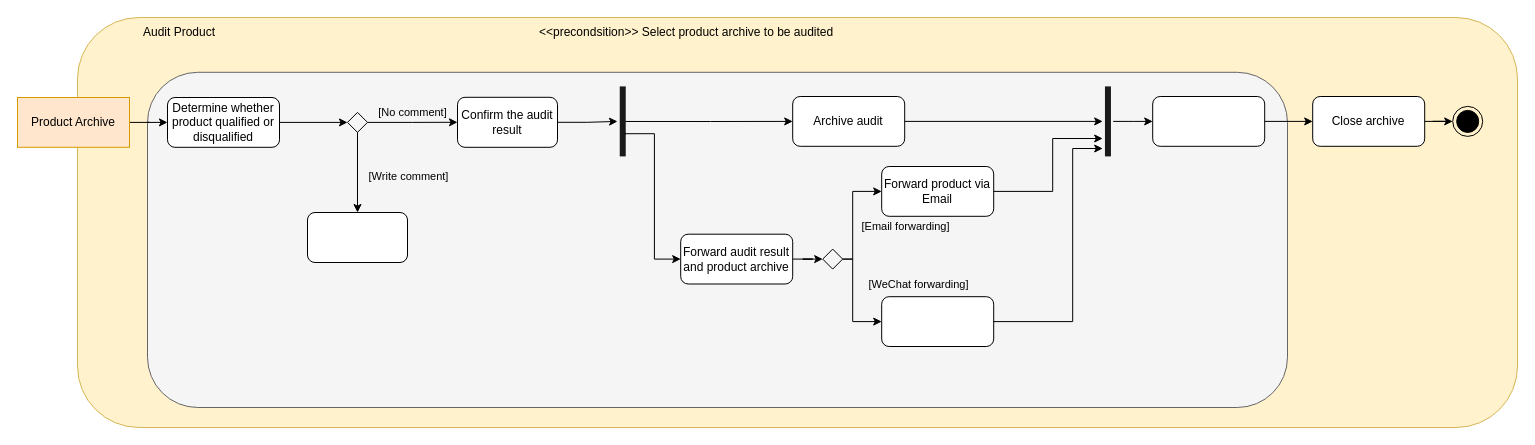
This 1535x445 diagram has some shape labels left out. The shapes that lost their labels are listed below. From the top down, each one's centre as x and y in pixels, then its label:
At (x=1208, y=121): "Delete archive".
At (x=357, y=237): "Write Comment".
At (x=937, y=321): "Forward product via WeChat".
